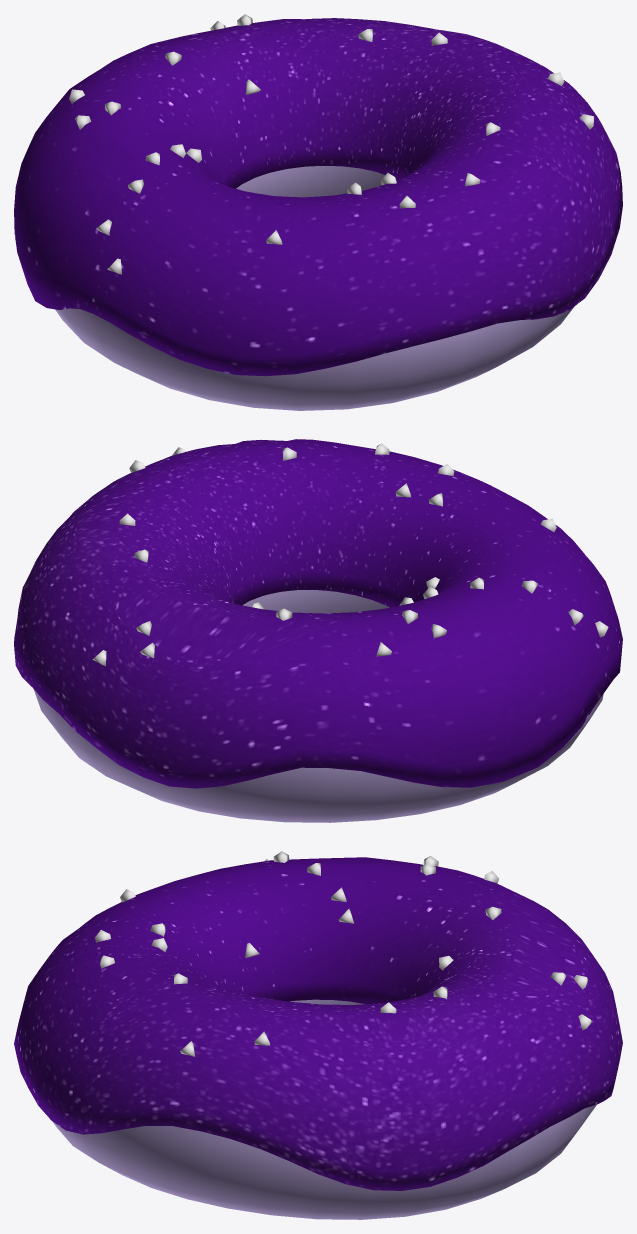
Rendered from GalaxyDonut-31oj9fn6.glb.
3 views of the same model, one above another, from view 1: azimuth 30°, elevation 25°; view 2: azimuth 150°, elevation 25°; view 3: azimuth 270°, elevation 25° (orthographic). The views are drawn at different scales.
Parts seen in each view (by area): view 1: Icing, Donut; view 2: Icing, Donut; view 3: Icing, Donut.
Part boxes in pixels (bbox=[...]): Icing: bbox=[14, 14, 622, 376]; Donut: bbox=[55, 166, 573, 410]; Icing: bbox=[14, 439, 622, 788]; Donut: bbox=[33, 590, 603, 822]; Icing: bbox=[14, 851, 622, 1190]; Donut: bbox=[52, 999, 596, 1219].
Size of the model in its own units: 0.2871 by 0.1131 by 0.2901.
